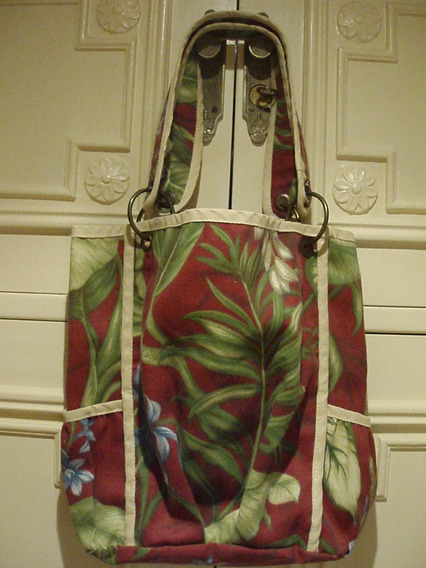cartera: (59, 9, 381, 562)
